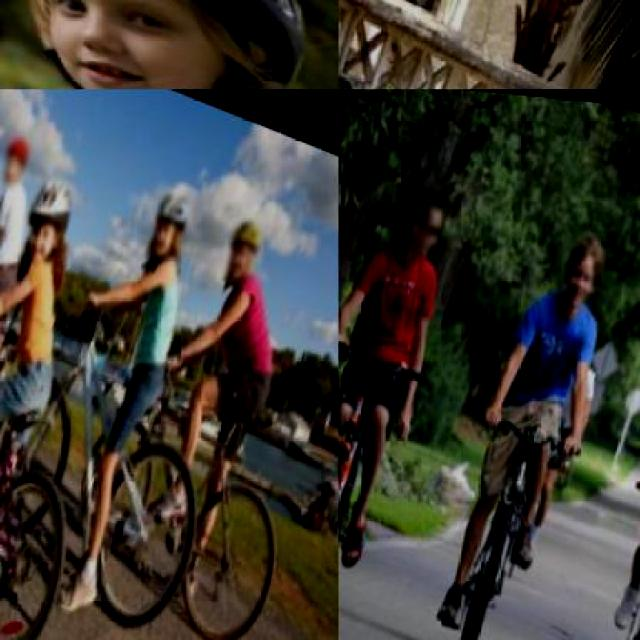With Helmet: (0, 0, 334, 88), (8, 158, 80, 271), (136, 165, 202, 264), (213, 191, 272, 284), (0, 118, 38, 195)
Without Helmet: (544, 214, 619, 312), (392, 170, 457, 258)
